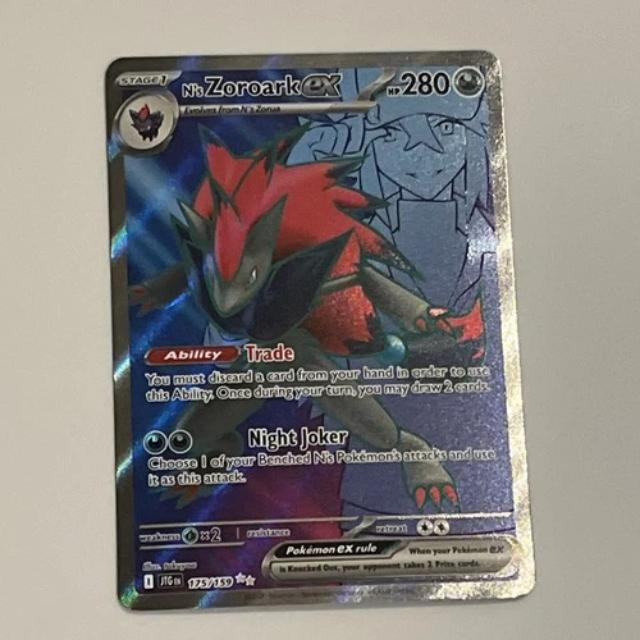Card: (99, 44, 541, 617)
Name: (178, 65, 351, 107)
